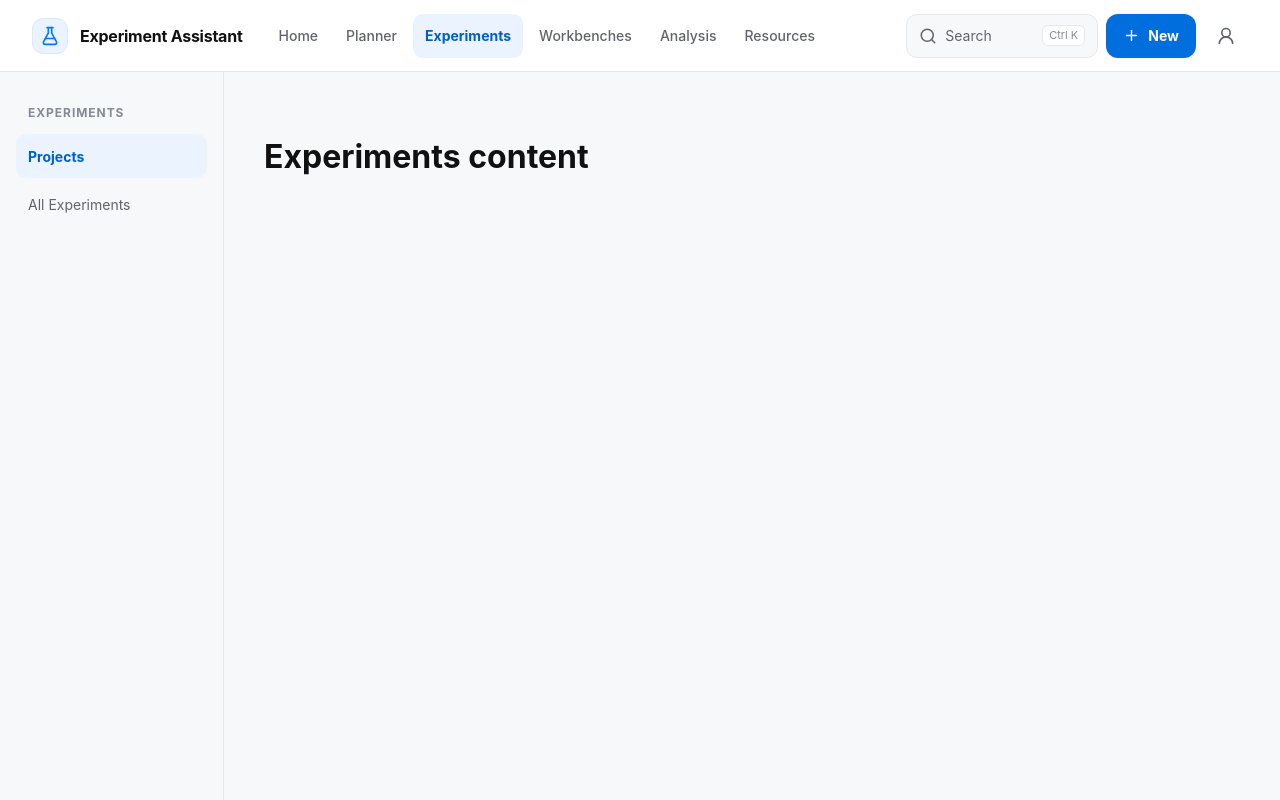
AppShell › links the global create shell to implemented Project creation
Click the button "New": (1151, 36) x1=1106 y1=14 x2=1196 y2=58
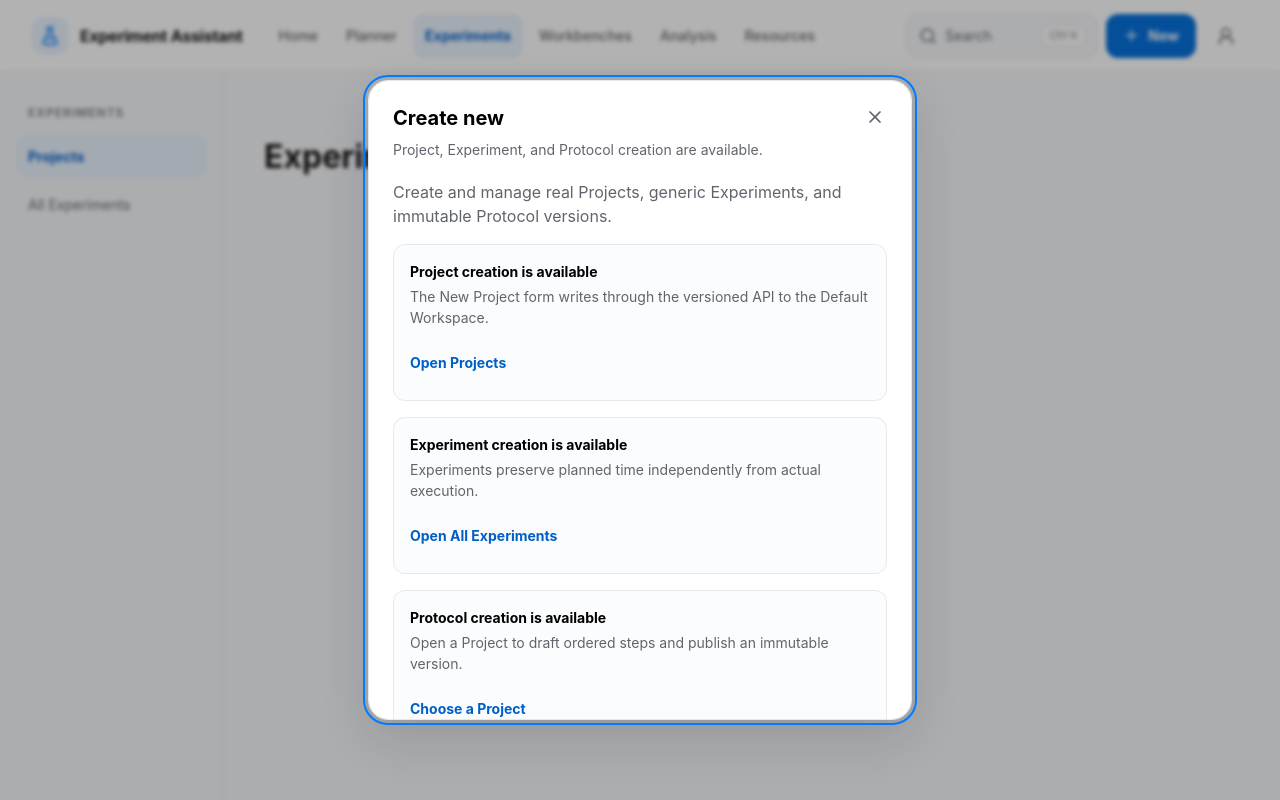
Now the dialog "Create new" shows "Project creation is available", box x1=410 y1=263 x2=598 y2=280
